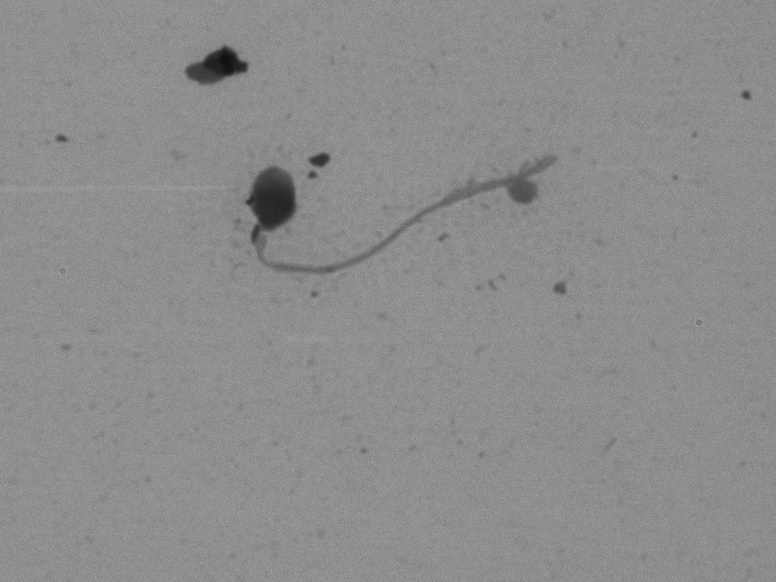Abnormal: (213, 142, 581, 289)
